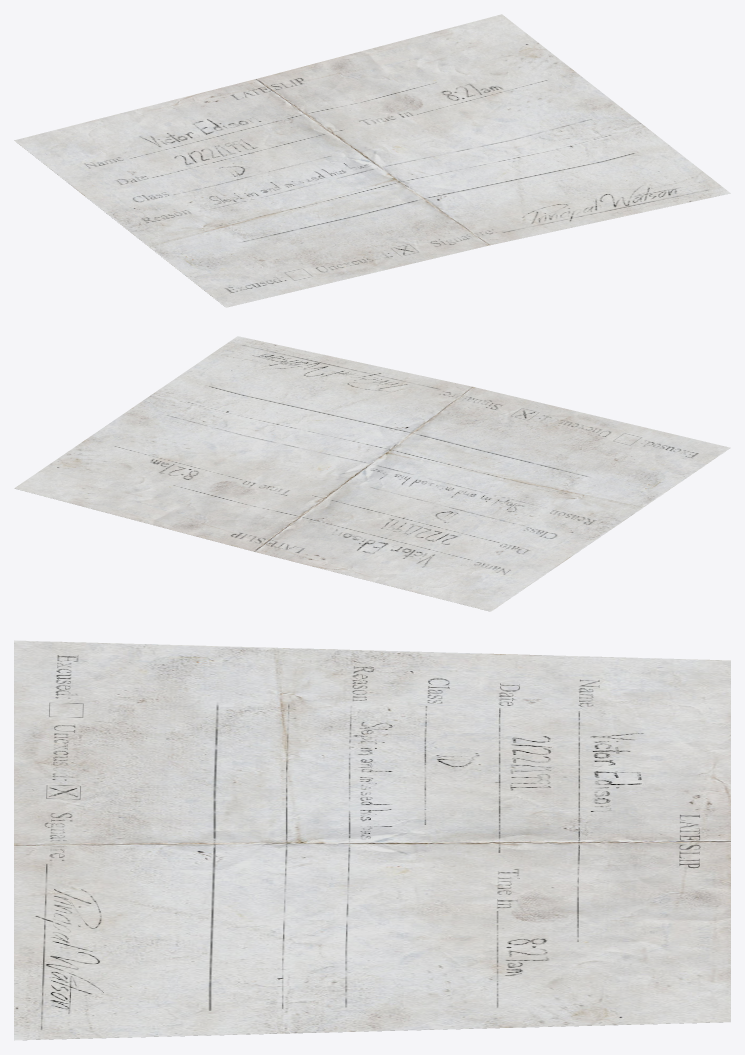
Rendered from late slip.fbx.
3 views of the same model, one above another, from view 1: azimuth 30°, elevation 25°; view 2: azimuth 150°, elevation 25°; view 3: azimuth 270°, elevation 25° (orthographic). The views are drawn at different scales.
Parts seen in each view (by area): view 1: pCube1; view 2: pCube1; view 3: pCube1.
Boxes of the visible parts, bbox=[...] form: pCube1: bbox=[14, 14, 730, 307]; pCube1: bbox=[14, 336, 730, 611]; pCube1: bbox=[14, 640, 730, 1040].
Size of the model in its own units: 21.04 by 0.4657 by 16.52.
